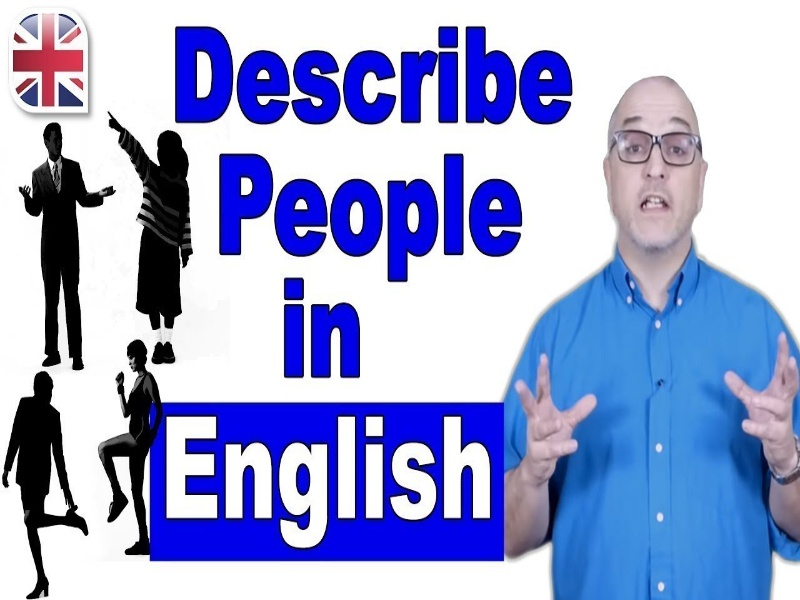TsisyArotava: (594, 73, 713, 267)
